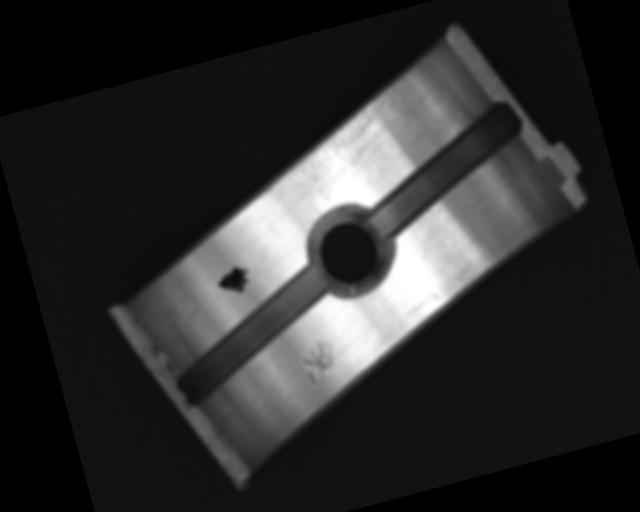blot: (213, 263, 254, 301)
bruise: (293, 334, 341, 389)
gap: (351, 98, 545, 245), (157, 263, 348, 409)
hole: (303, 197, 396, 305)
scratch: (264, 83, 421, 211)
